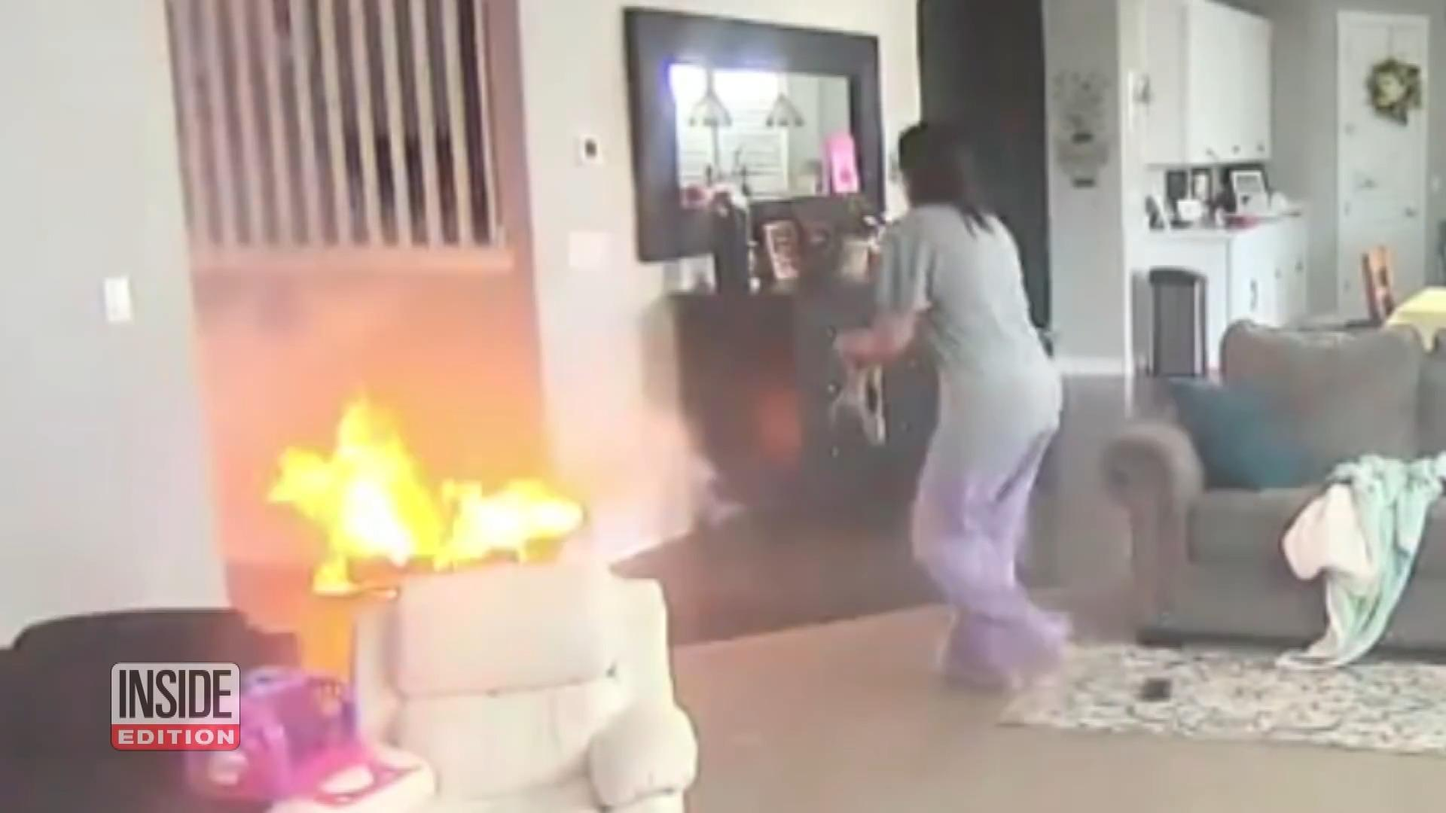fire: (264, 394, 585, 595)
